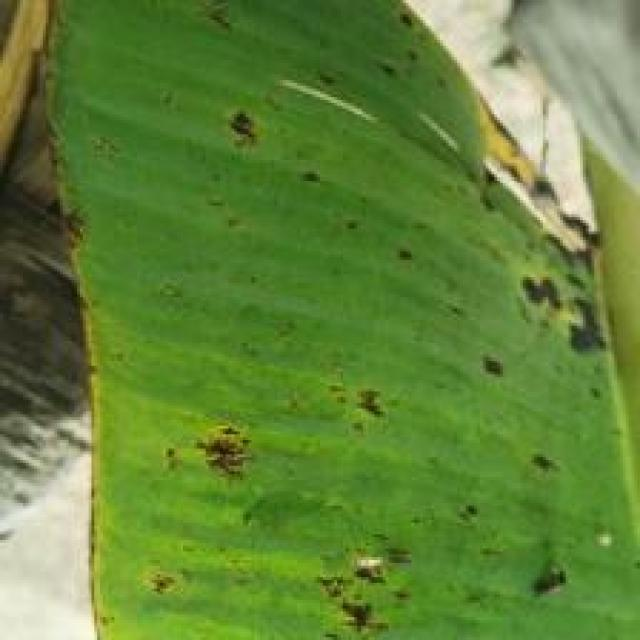Downey_mildrew: (337, 0, 629, 423), (40, 0, 174, 633), (445, 433, 605, 621), (298, 534, 433, 640), (180, 94, 292, 174), (317, 364, 388, 481), (197, 403, 265, 514)
